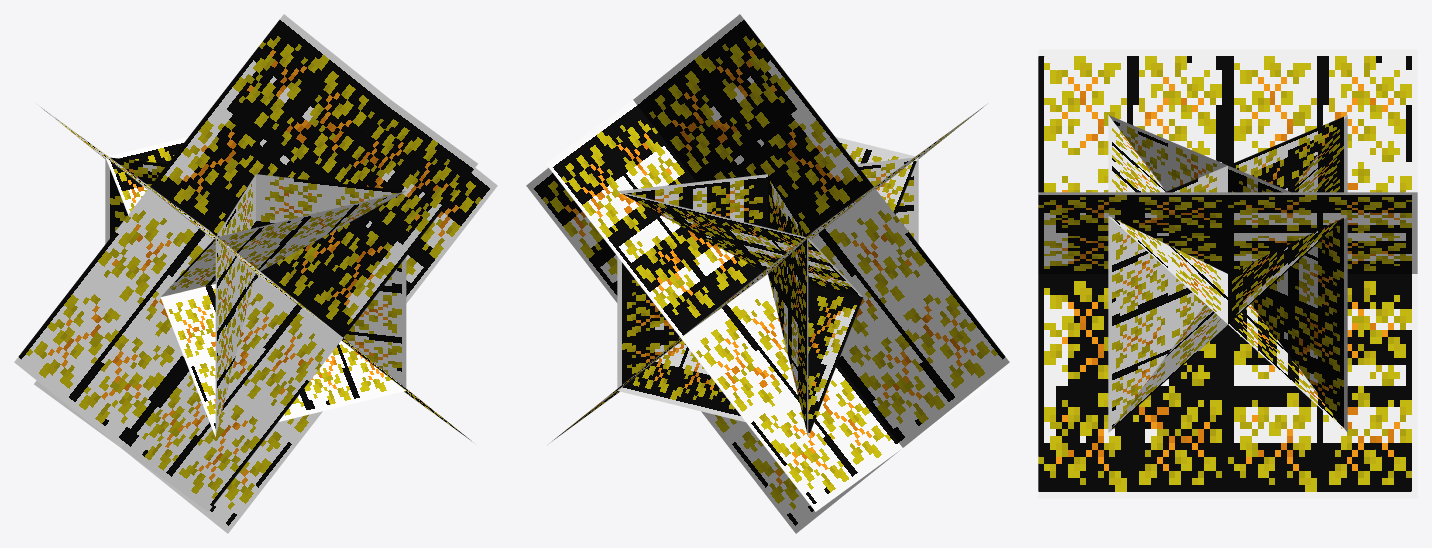
File: leaf_model_7.obj
3 renders of one model, left to right at view 1: azimuth 30°, elevation 25°; view 2: azimuth 150°, elevation 25°; view 3: azimuth 270°, elevation 25°, orthographic. The views are drawn at different scales.
Parts seen in each view (by area): view 1: Plane.001; view 2: Plane.001; view 3: Plane.001.
Boxes of the visible parts, x1,y1,x2,y2 form: Plane.001: (14, 14, 497, 533); Plane.001: (526, 14, 1009, 533); Plane.001: (1038, 49, 1417, 498).
Bounding box in the file's own units: 2.53 × 2.53 × 1.58.
1 material, 1 textured.
